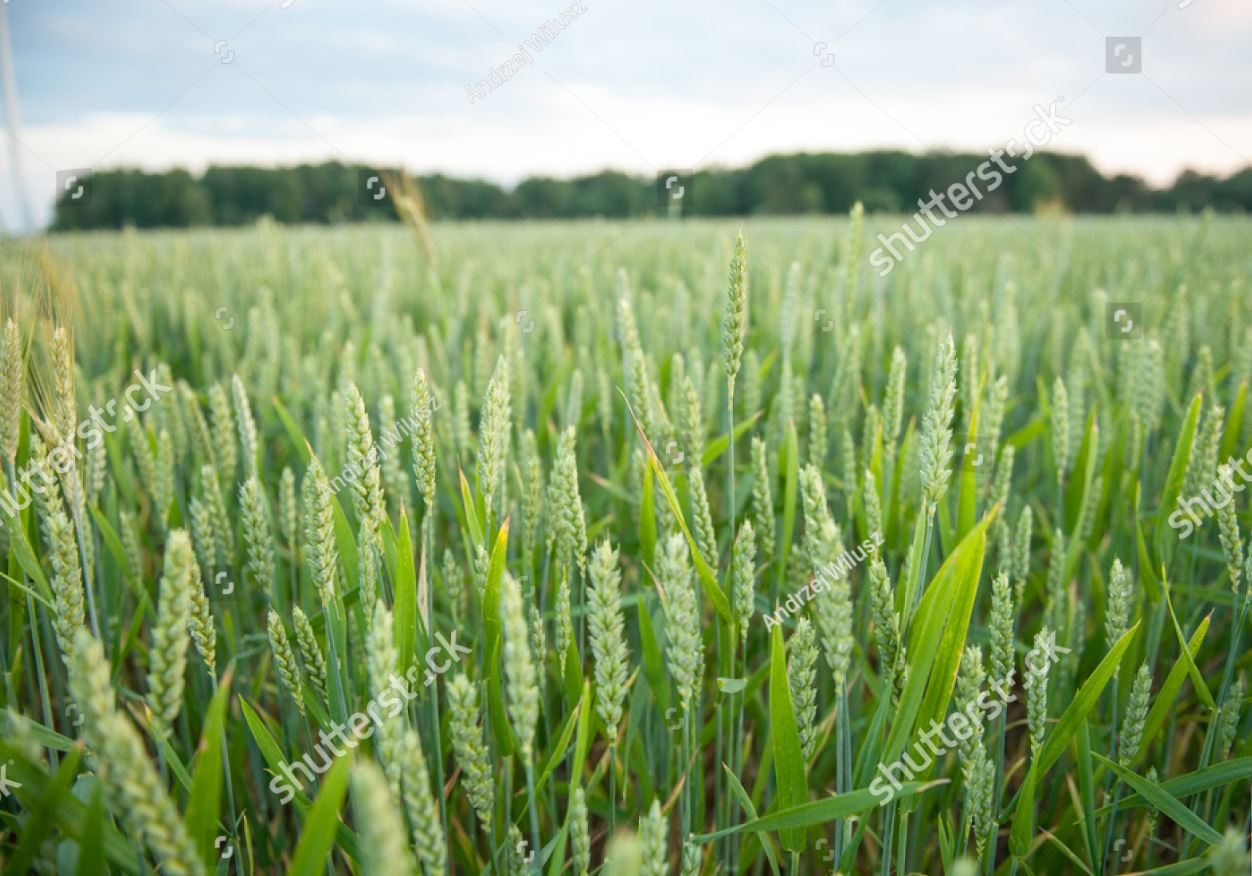Wheat: (137, 279, 1034, 781)
